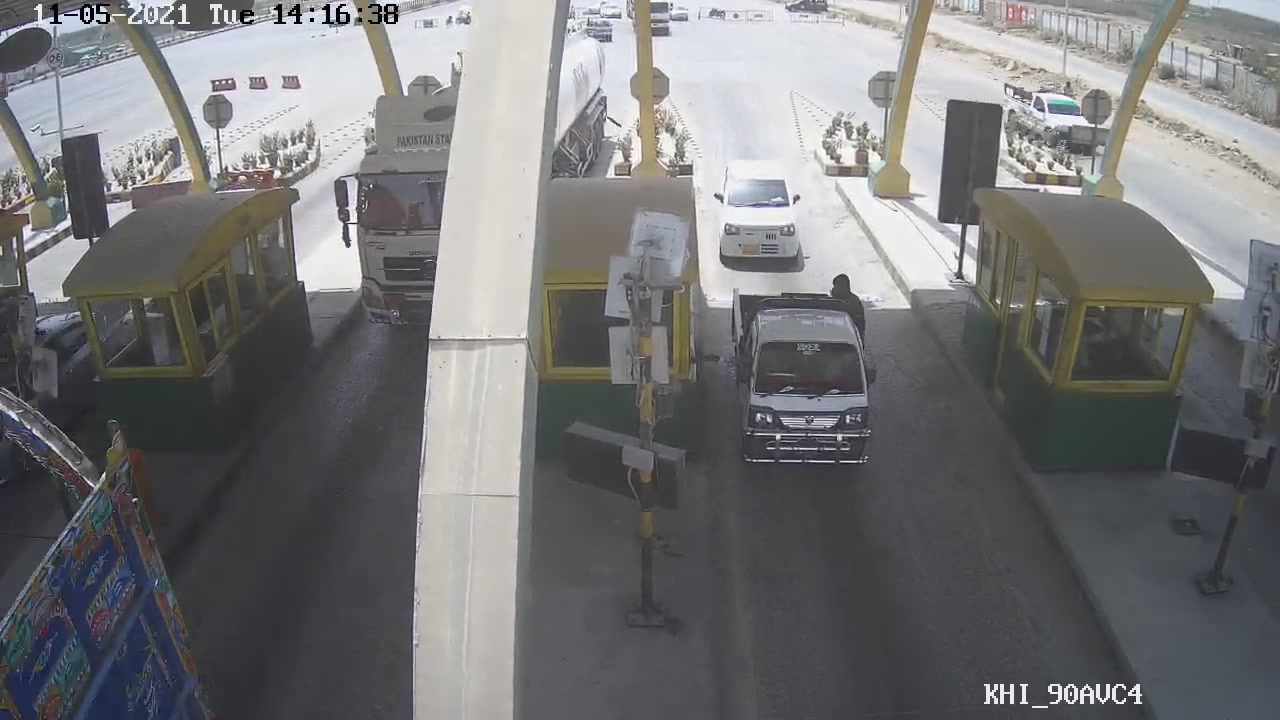F1: (719, 284, 891, 486), (711, 151, 812, 274)
